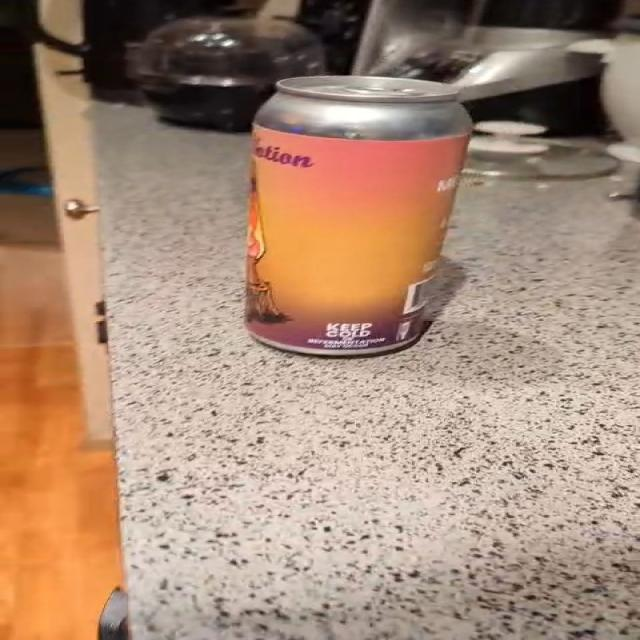metal: (247, 76, 471, 355)
